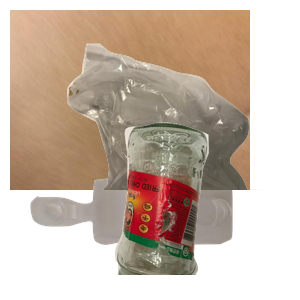cardboard: (10, 10, 250, 190)
glass: (112, 120, 300, 300)
plastic: (28, 176, 253, 300)
trash: (65, 41, 300, 221)
